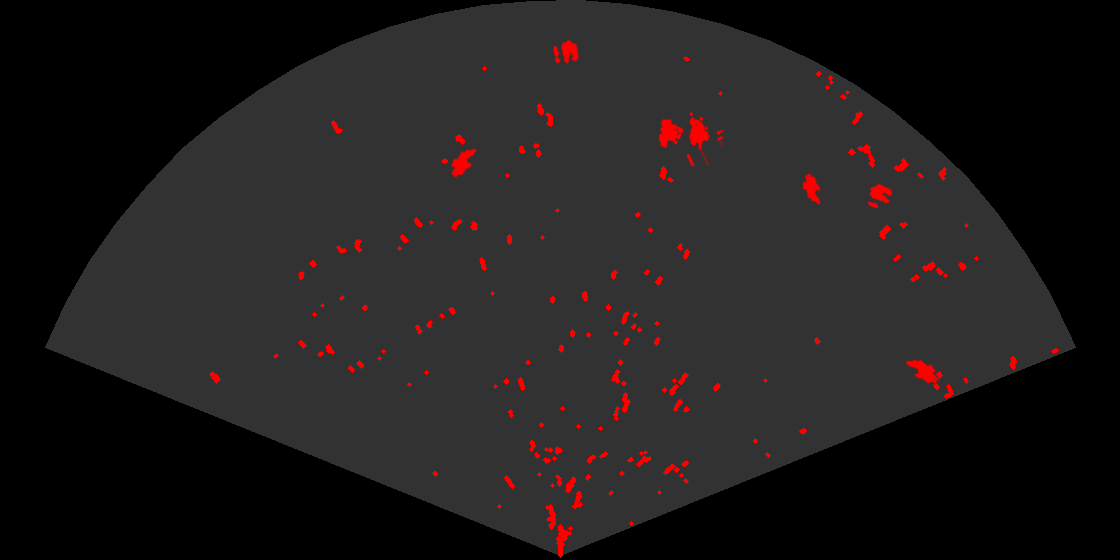AUV: (904, 358, 940, 385), (450, 147, 478, 179), (801, 172, 822, 206)
ball: (552, 38, 580, 66), (866, 182, 894, 210)
cage: (657, 111, 723, 166)
